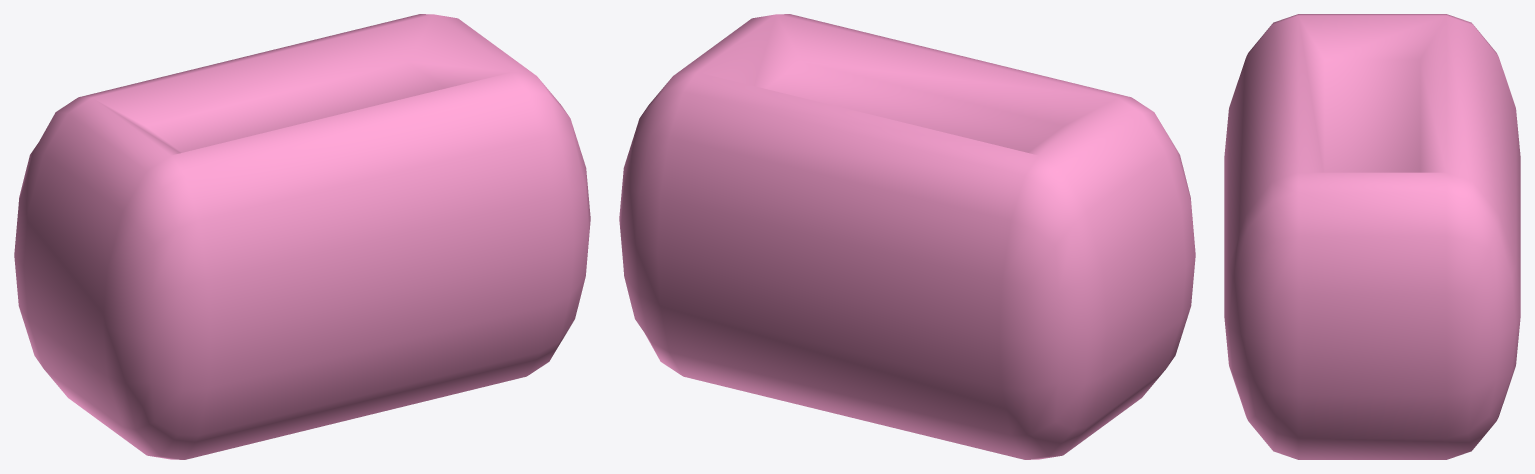
The model's file is soap.glb.
3 renders of one model, left to right at view 1: azimuth 30°, elevation 25°; view 2: azimuth 150°, elevation 25°; view 3: azimuth 270°, elevation 25°, orthographic. The views are drawn at different scales.
Parts seen in each view (by area): view 1: Roundcube.001; view 2: Roundcube.001; view 3: Roundcube.001.
Part boxes in pixels (<box>): Roundcube.001: <box>14,14,590,459</box>; Roundcube.001: <box>619,14,1195,459</box>; Roundcube.001: <box>1224,14,1520,459</box>.
Size of the model in its own units: 2.08 by 1.27 by 1.19.
